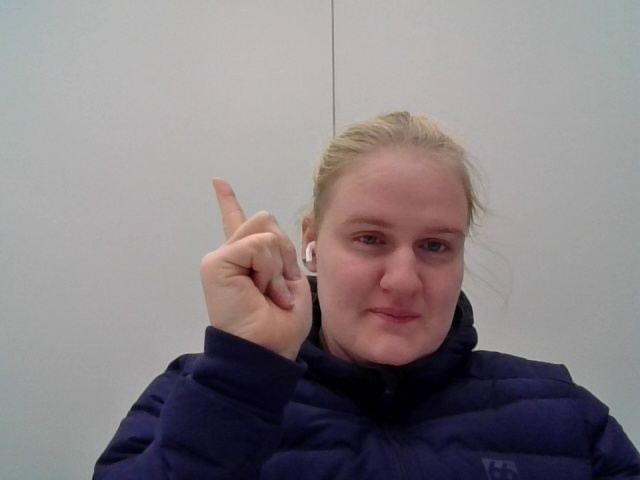up: (186, 164, 322, 365)
